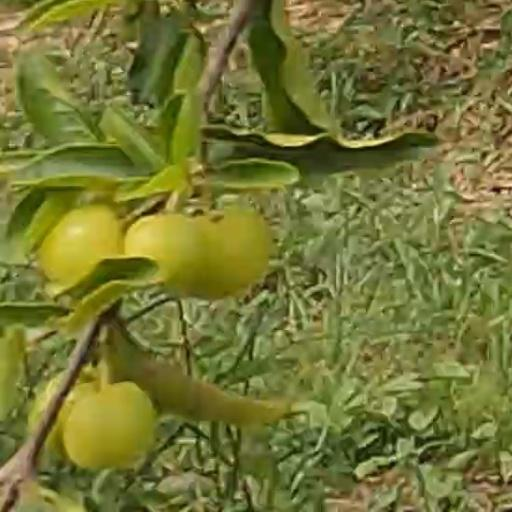acerola_verde: (65, 382, 149, 466), (45, 204, 118, 283), (128, 214, 201, 289), (204, 216, 264, 297)
